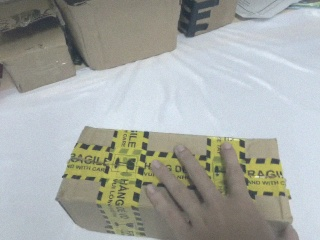box: (56, 126, 294, 240), (43, 1, 184, 71), (1, 1, 77, 92)
